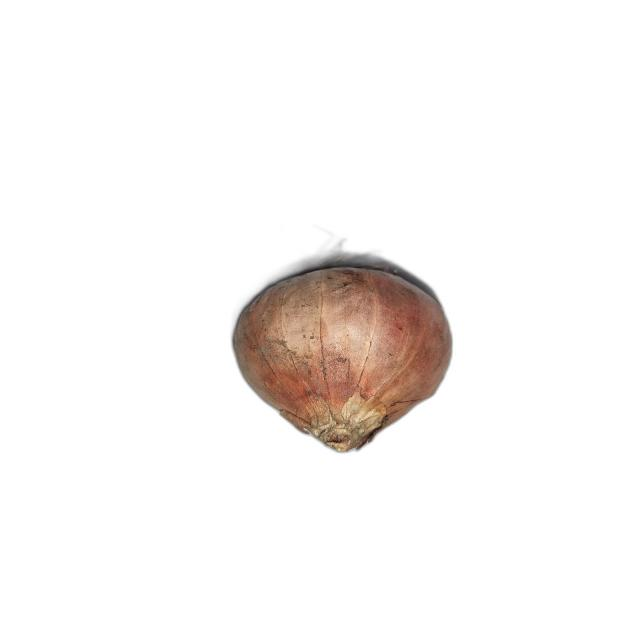onion: (232, 266, 453, 452)
